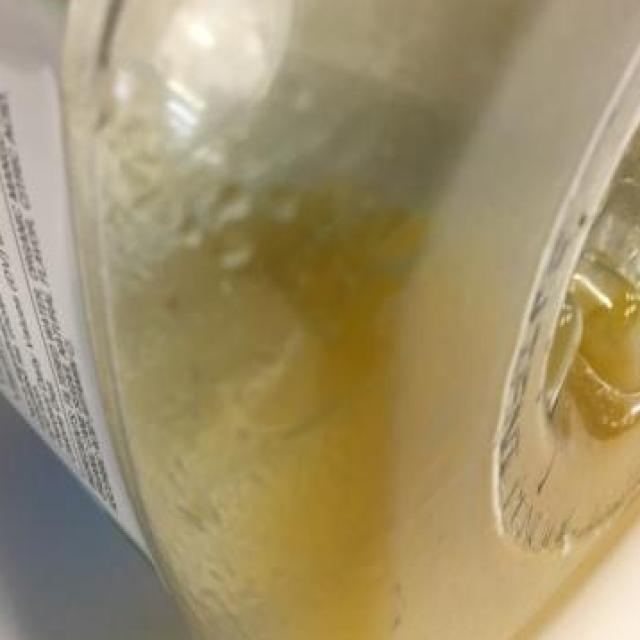organic: (15, 9, 609, 617)
